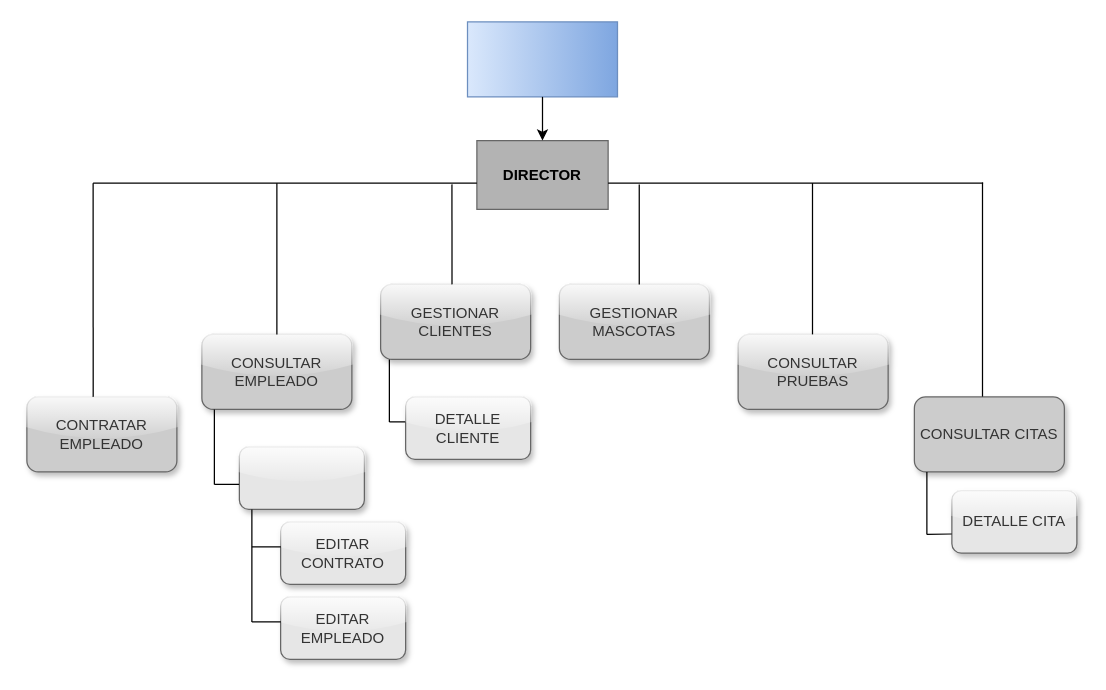
Some shapes in this 1106 by 690 pixel diagram are drawn without their labels. Here are the shapes that lost their labels. From the top down, the centre of each, then its label:
At point 542,59: "INDEX".
At point 302,479: "DETALLE EMPLEADO".
